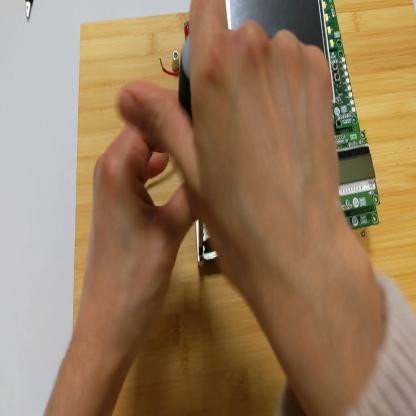hand: (77, 98, 205, 356)
low voltage board: (115, 1, 342, 282)
screwdriver-: (181, 38, 204, 254)
working area: (75, 4, 416, 415)
